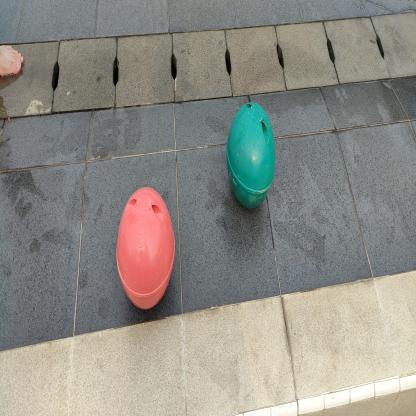green_buoy: (224, 98, 278, 216)
red_buoy: (114, 184, 178, 314)
